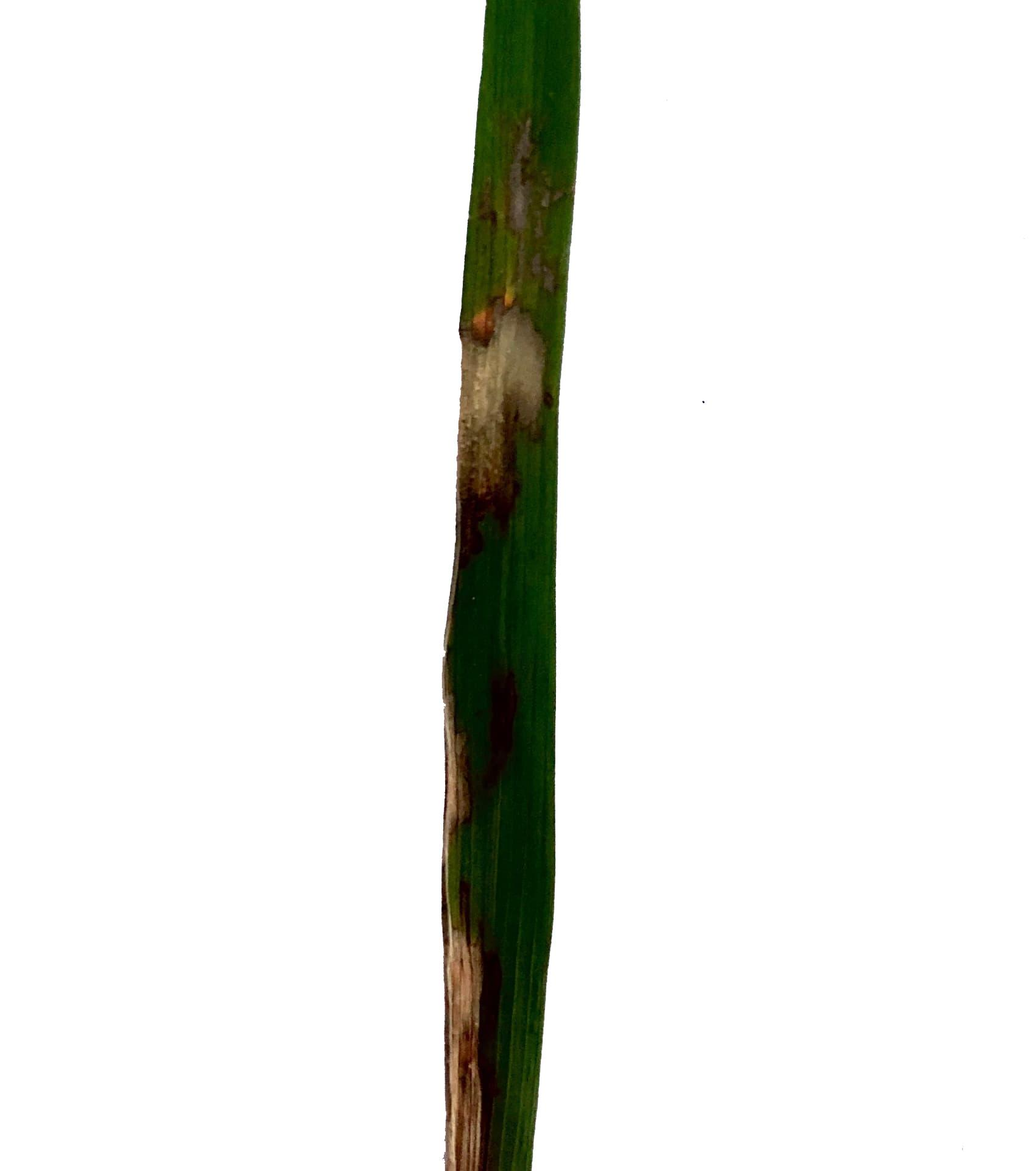Blight: (466, 125, 555, 500), (442, 903, 506, 1165), (442, 659, 488, 842)
